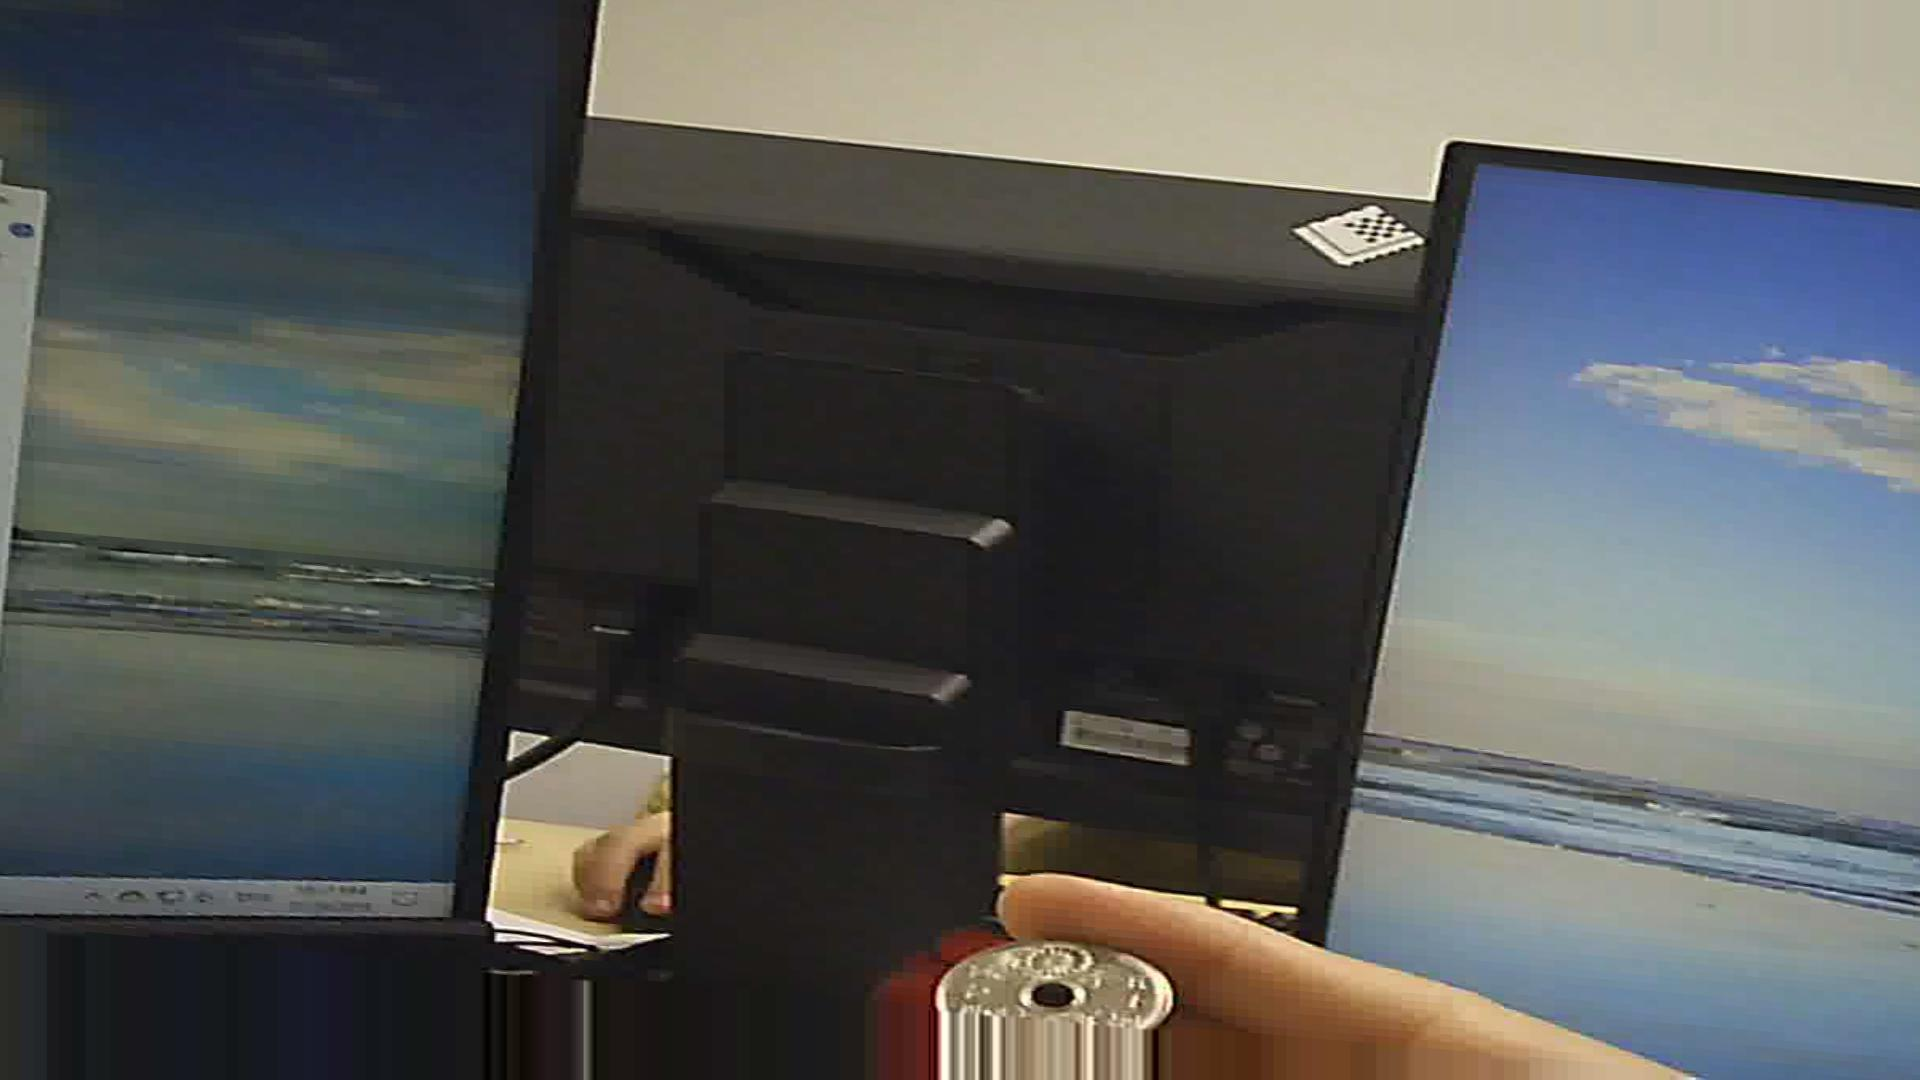50 Yen: (928, 930, 1180, 1034)
